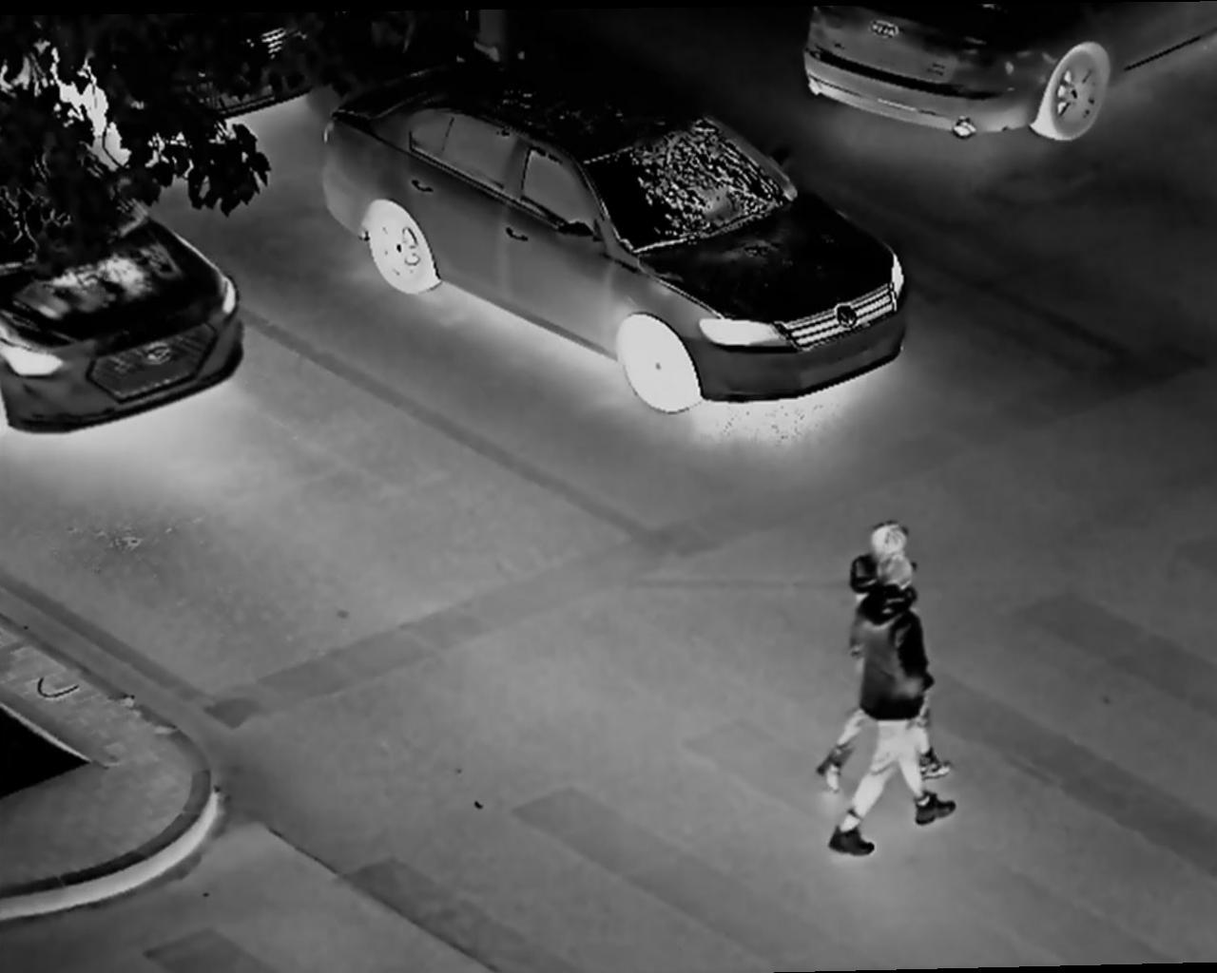person: (819, 523, 954, 792), (844, 556, 959, 849)
